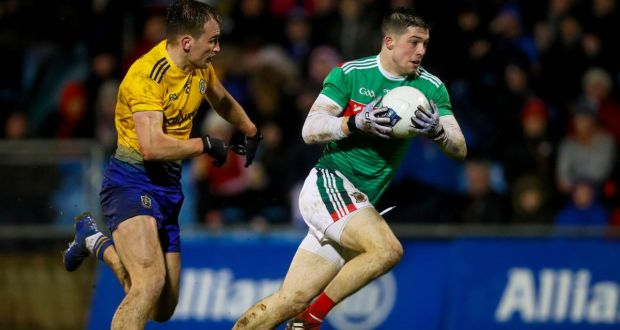ball: (376, 86, 433, 138)
player: (302, 11, 452, 319), (102, 2, 216, 310)
